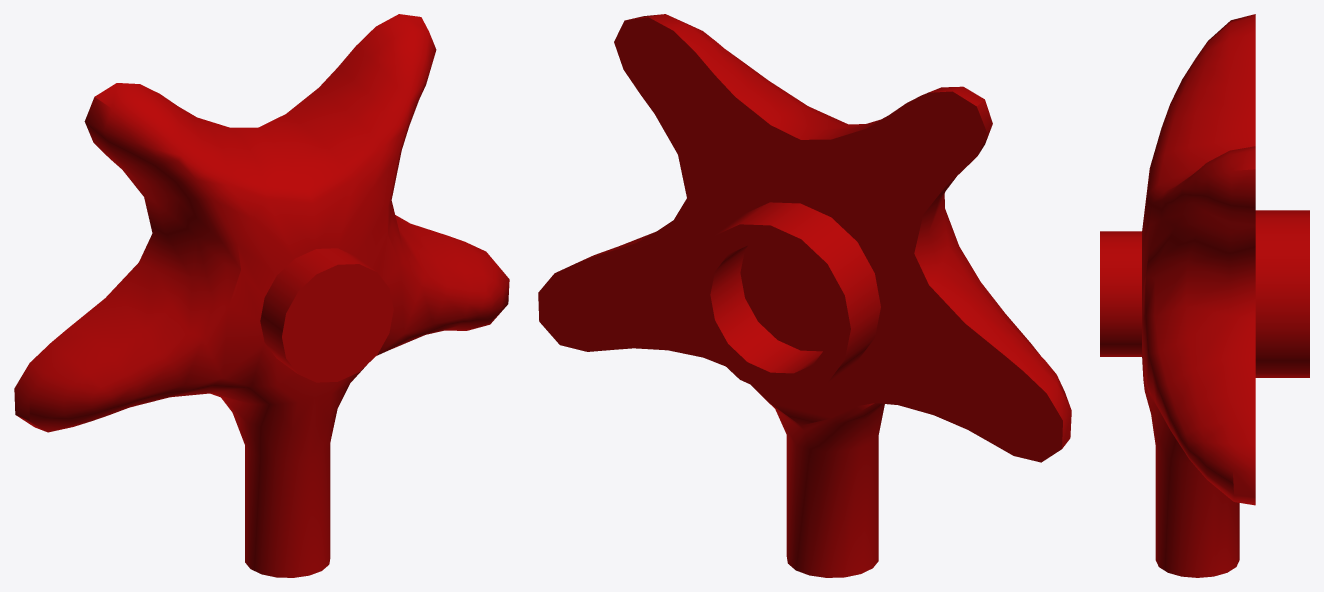
File: starfish.obj
3 renders of one model, left to right at view 1: azimuth 30°, elevation 25°; view 2: azimuth 150°, elevation 25°; view 3: azimuth 270°, elevation 25°, orthographic. The views are drawn at different scales.
Parts seen in each view (by area): view 1: Piece000; view 2: Piece000; view 3: Piece000.
Boxes of the visible parts, left/top/right/bottom form: Piece000: left=14, top=14, right=509, bottom=577; Piece000: left=538, top=14, right=1071, bottom=577; Piece000: left=1100, top=14, right=1309, bottom=577.
Bounding box in the file's own units: 52.24 × 50.18 × 20.
